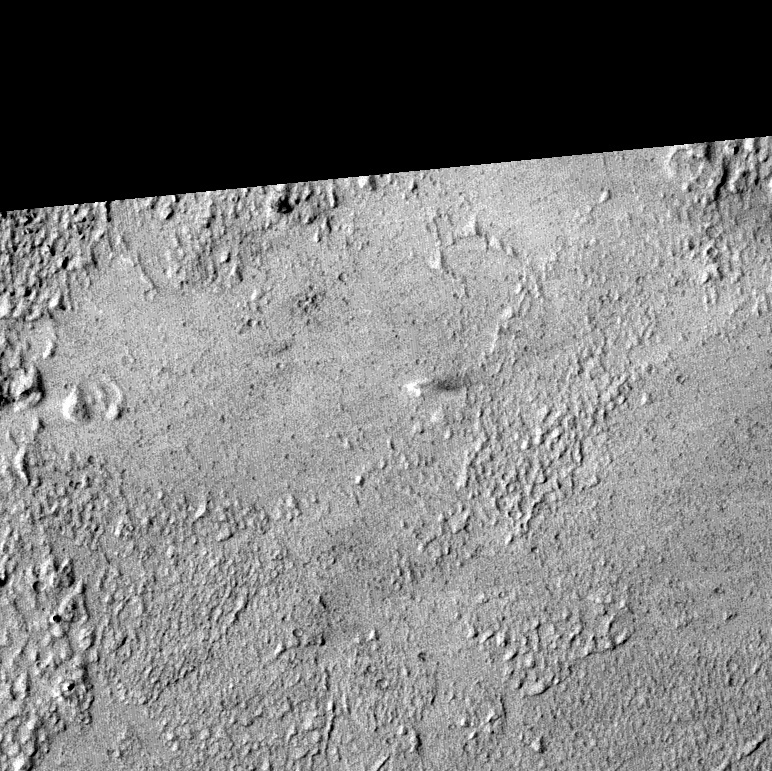dust_devil: (402, 371, 473, 398)
